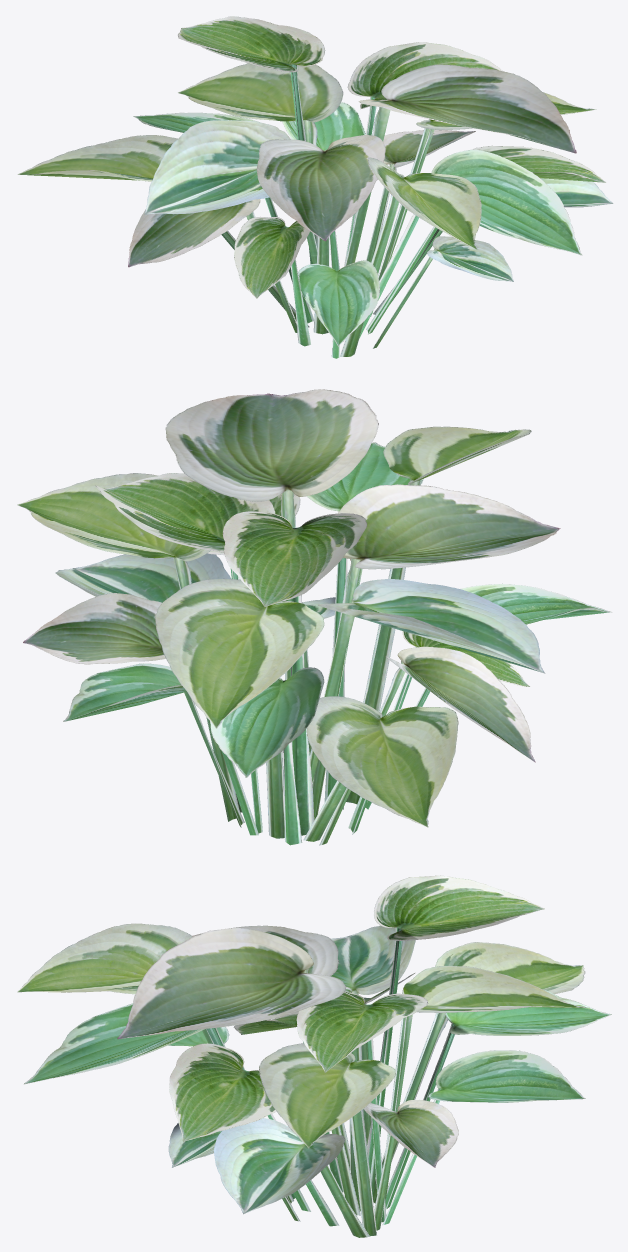
The model's file is plant_small_wg_00T.fbx.
3 views of the same model, one above another, from view 1: azimuth 30°, elevation 25°; view 2: azimuth 150°, elevation 25°; view 3: azimuth 270°, elevation 25° (orthographic). The views are drawn at different scales.
Visible parts, largest first — view 1: plant_small_wg_00T; view 2: plant_small_wg_00T; view 3: plant_small_wg_00T.
Part boxes in pixels (left/top/right/bottom): plant_small_wg_00T: left=17, top=16, right=613, bottom=358; plant_small_wg_00T: left=17, top=389, right=611, bottom=845; plant_small_wg_00T: left=17, top=875, right=611, bottom=1237.
Bounding box in the file's own units: 84.49 × 48.74 × 90.06.
Materials: 1 (1 with a texture image).
